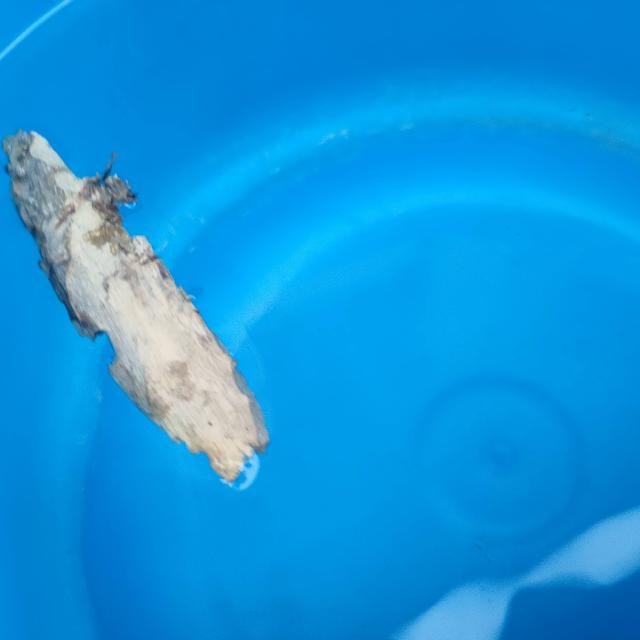wood: (4, 115, 284, 513)
